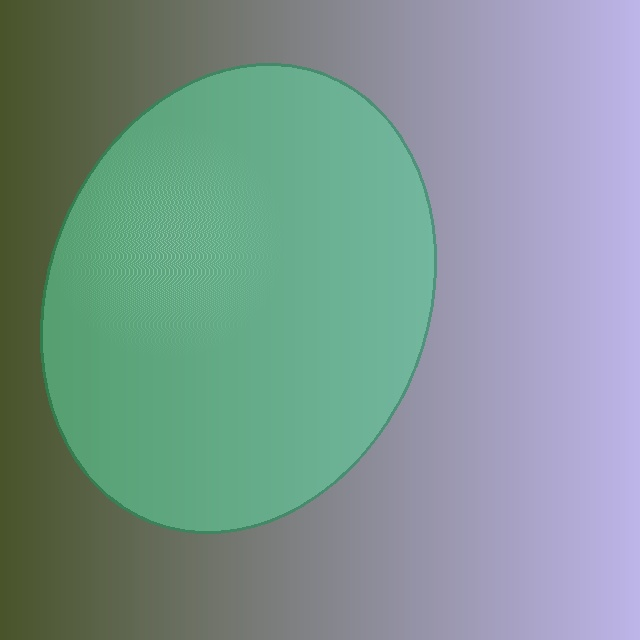lens: (41, 64, 435, 532)
